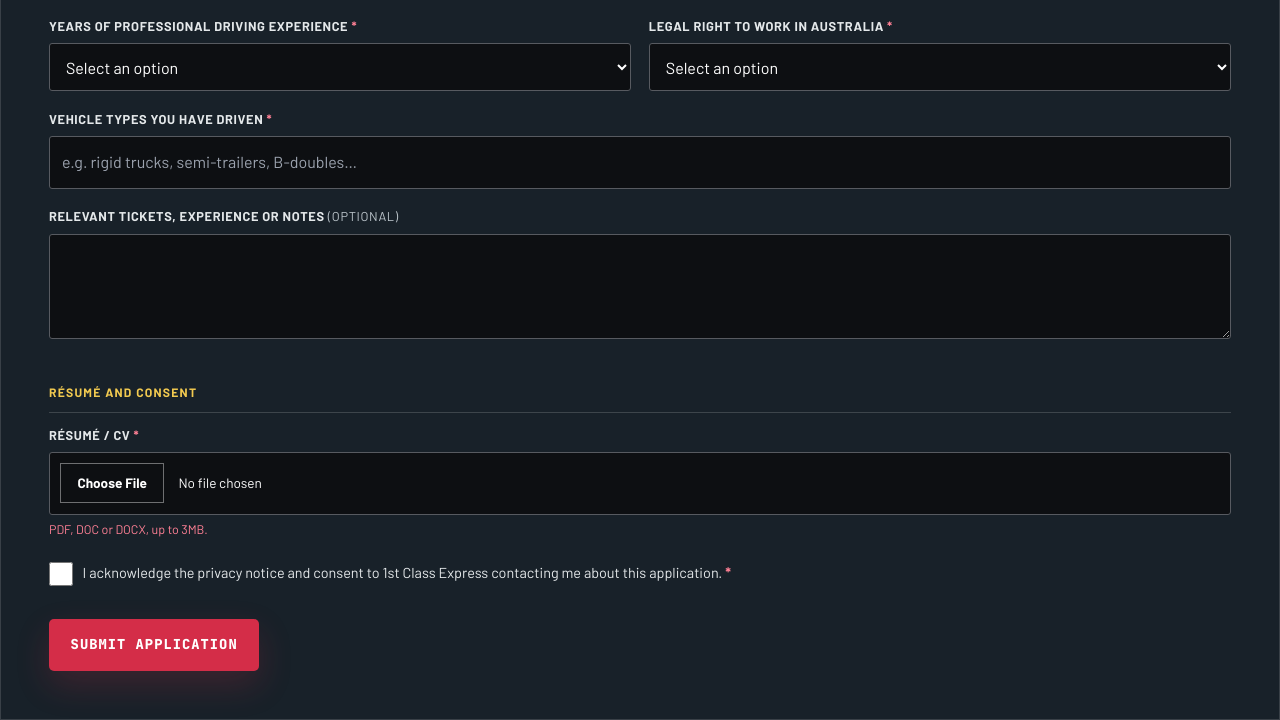
it: forms › keeps the first-stage driver application focused on essential screening
(page scrolled)
Click the button "Submit Application". click: (154, 645)
box: [49,619,259,671]
(page scrolled)
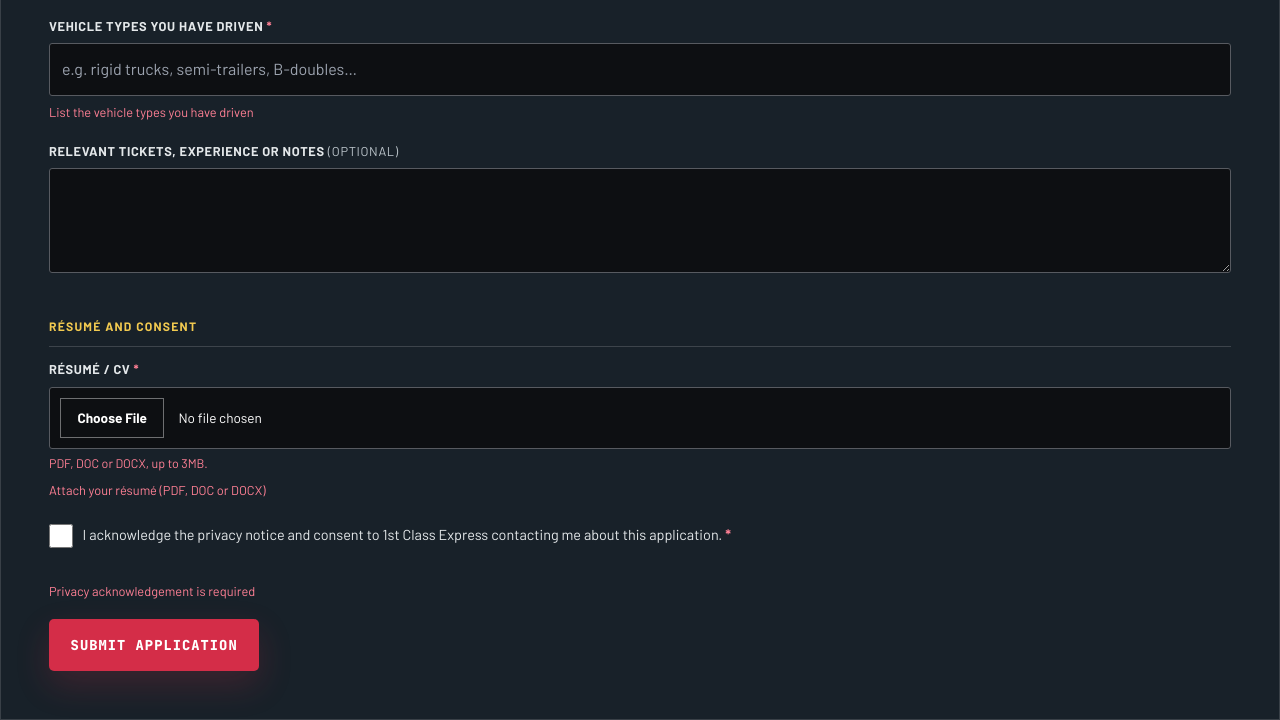
Check: the text "Attach your résumé (PDF, DOC or DOCX)" is shown, box [49,482,266,498]
Check: the text "Privacy acknowledgement is required" is shown, box [49,583,255,599]
